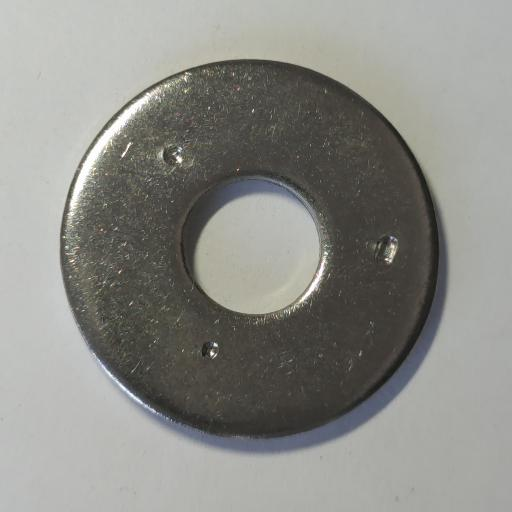circular_cavity: (372, 235, 399, 264), (161, 143, 185, 167), (201, 340, 220, 361)
